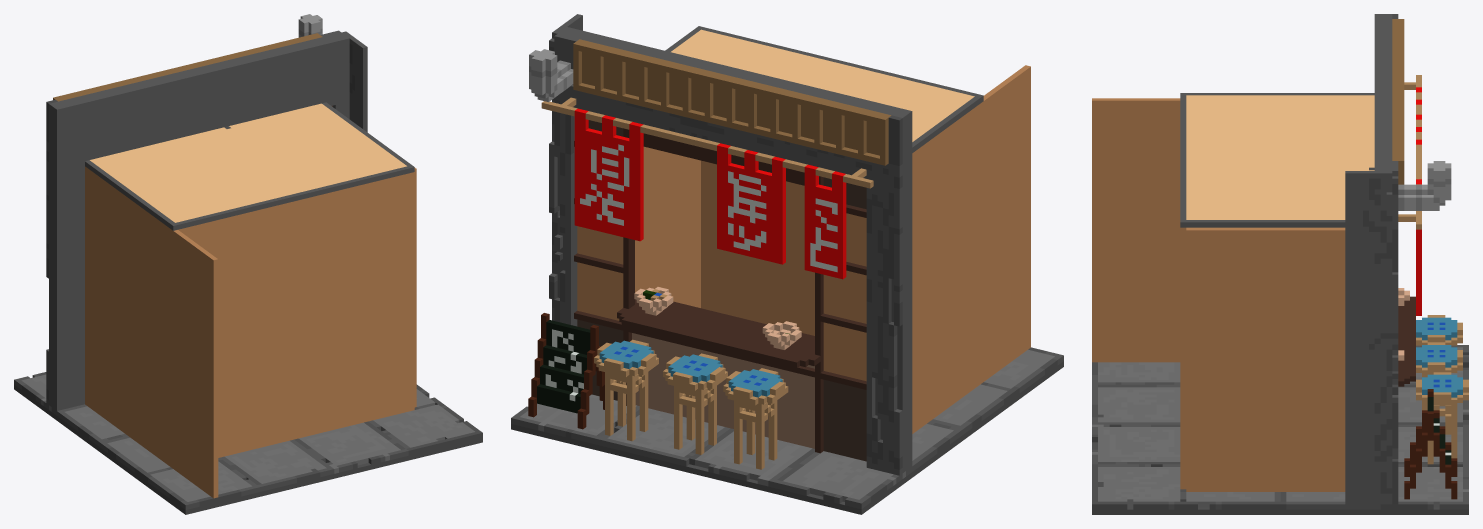
File: Tutorialmap_V2_unfinished-18.obj
The picture shows the model from 3 angles, left to right: view 1: azimuth 30°, elevation 25°; view 2: azimuth 150°, elevation 25°; view 3: azimuth 270°, elevation 25°; orthographic projection. The views are drawn at different scales.
Size of the model in its own units: 6.4 by 6.4 by 6.4.
Materials: 1 (1 with a texture image).
